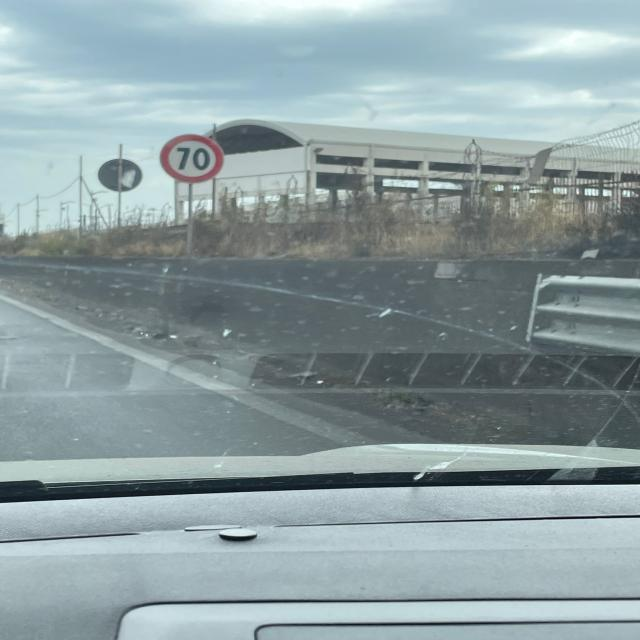forb_speed_over_70: (159, 133, 225, 183)
